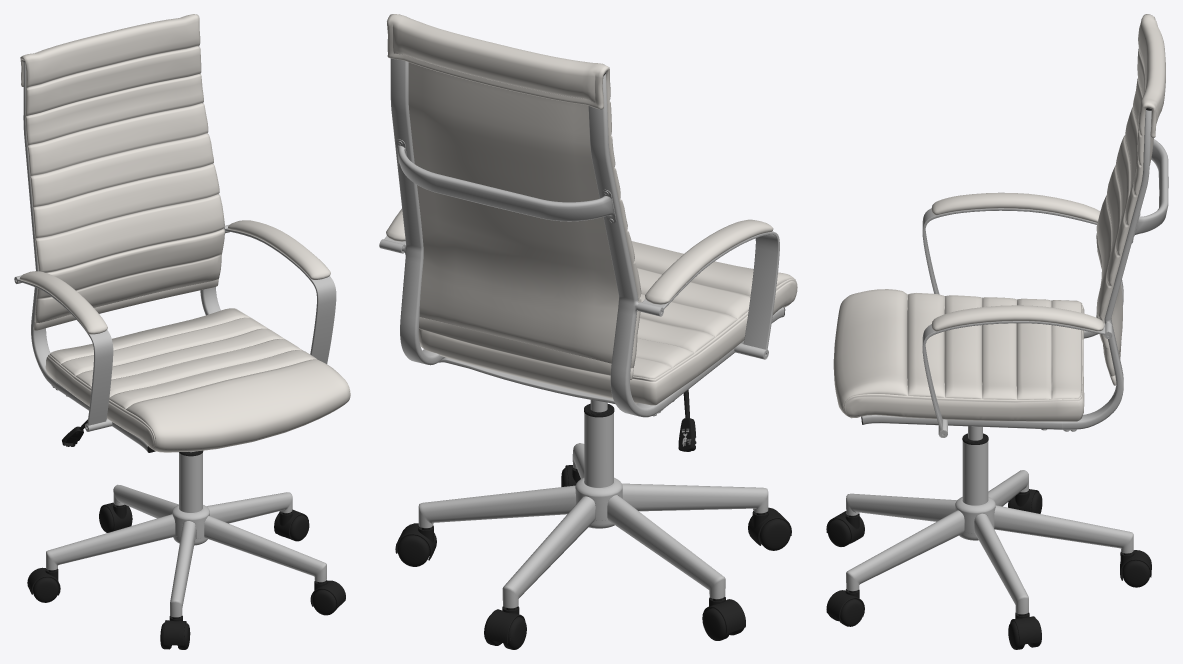
Rendered from office_chair_B07TKX2NYY.glb.
The picture shows the model from 3 angles, left to right: view 1: azimuth 30°, elevation 25°; view 2: azimuth 150°, elevation 25°; view 3: azimuth 270°, elevation 25°; orthographic projection. The views are drawn at different scales.
Visible parts, largest first — view 1: consolidatedNode; view 2: consolidatedNode; view 3: consolidatedNode.
Boxes of the visible parts, left/top/right/bottom form: consolidatedNode: left=14, top=14, right=350, bottom=649; consolidatedNode: left=379, top=14, right=797, bottom=649; consolidatedNode: left=826, top=14, right=1168, bottom=649.
Bounding box in the file's own units: 0.6794 × 1.15 × 0.6794.
1 material, 1 textured.
